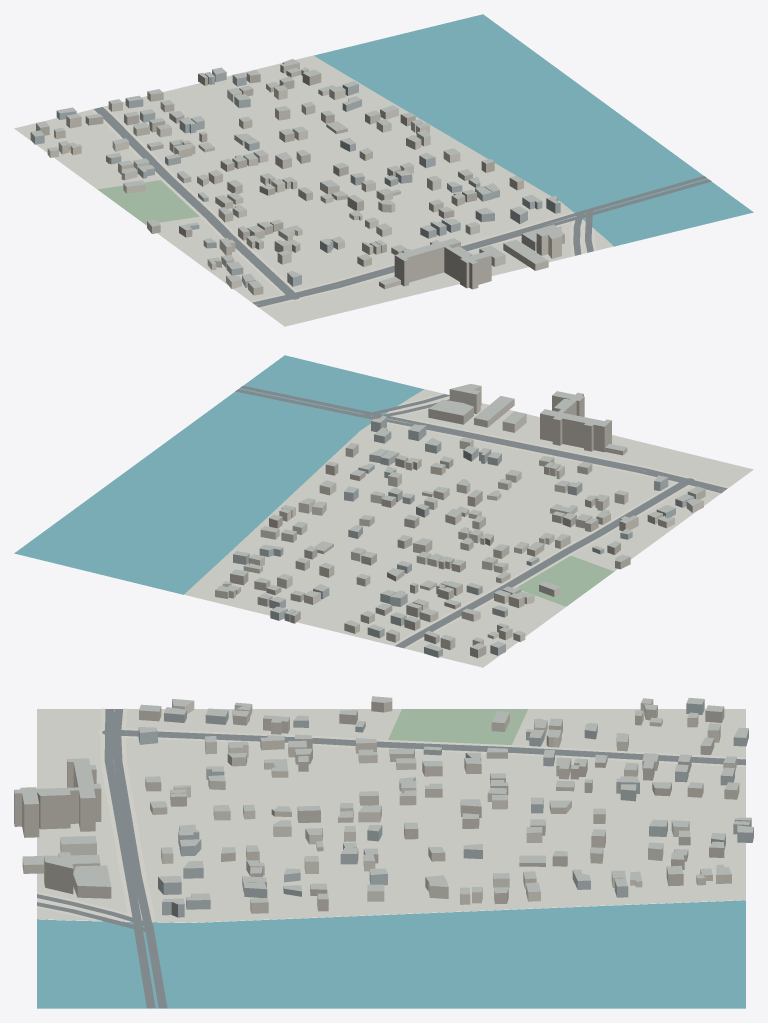
The picture shows the model from 3 angles, top to bottom: view 1: azimuth 30°, elevation 25°; view 2: azimuth 150°, elevation 25°; view 3: azimuth 270°, elevation 25°; orthographic projection. The views are drawn at different scales.
Visible parts, largest first — view 1: city; view 2: city; view 3: city.
Boxes of the visible parts, x1=… form: city: x1=14, y1=14, x2=753, y2=326; city: x1=14, y1=355, x2=753, y2=667; city: x1=14, y1=696, x2=753, y2=1008.
Bounding box in the file's own units: 505 × 26.18 × 522.
